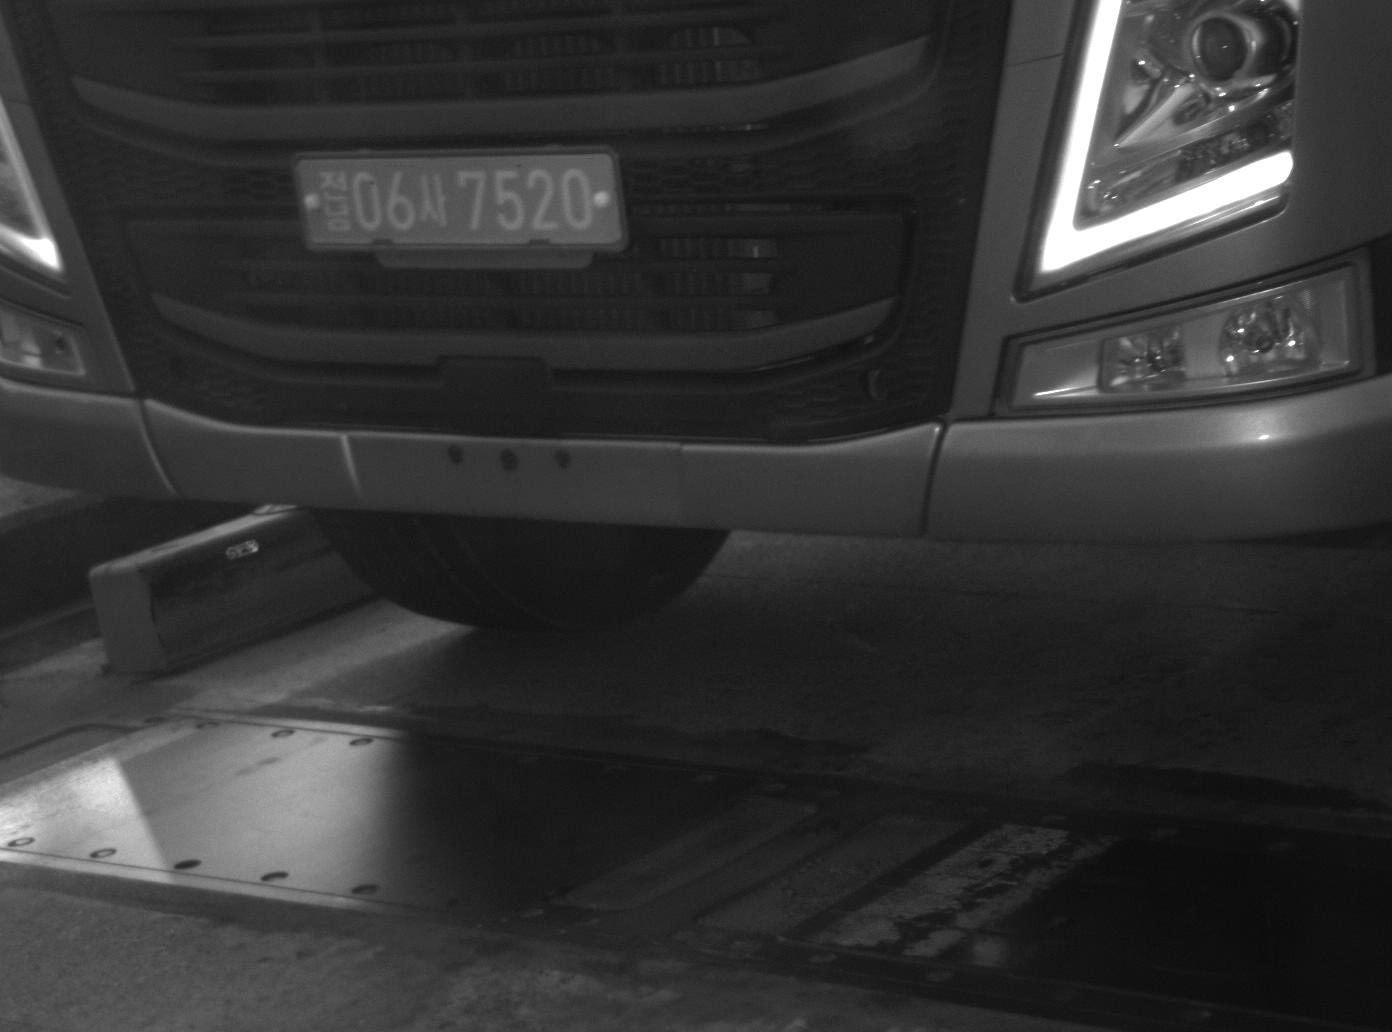car: (1, 1, 1392, 634)
plate: (284, 147, 634, 258)
